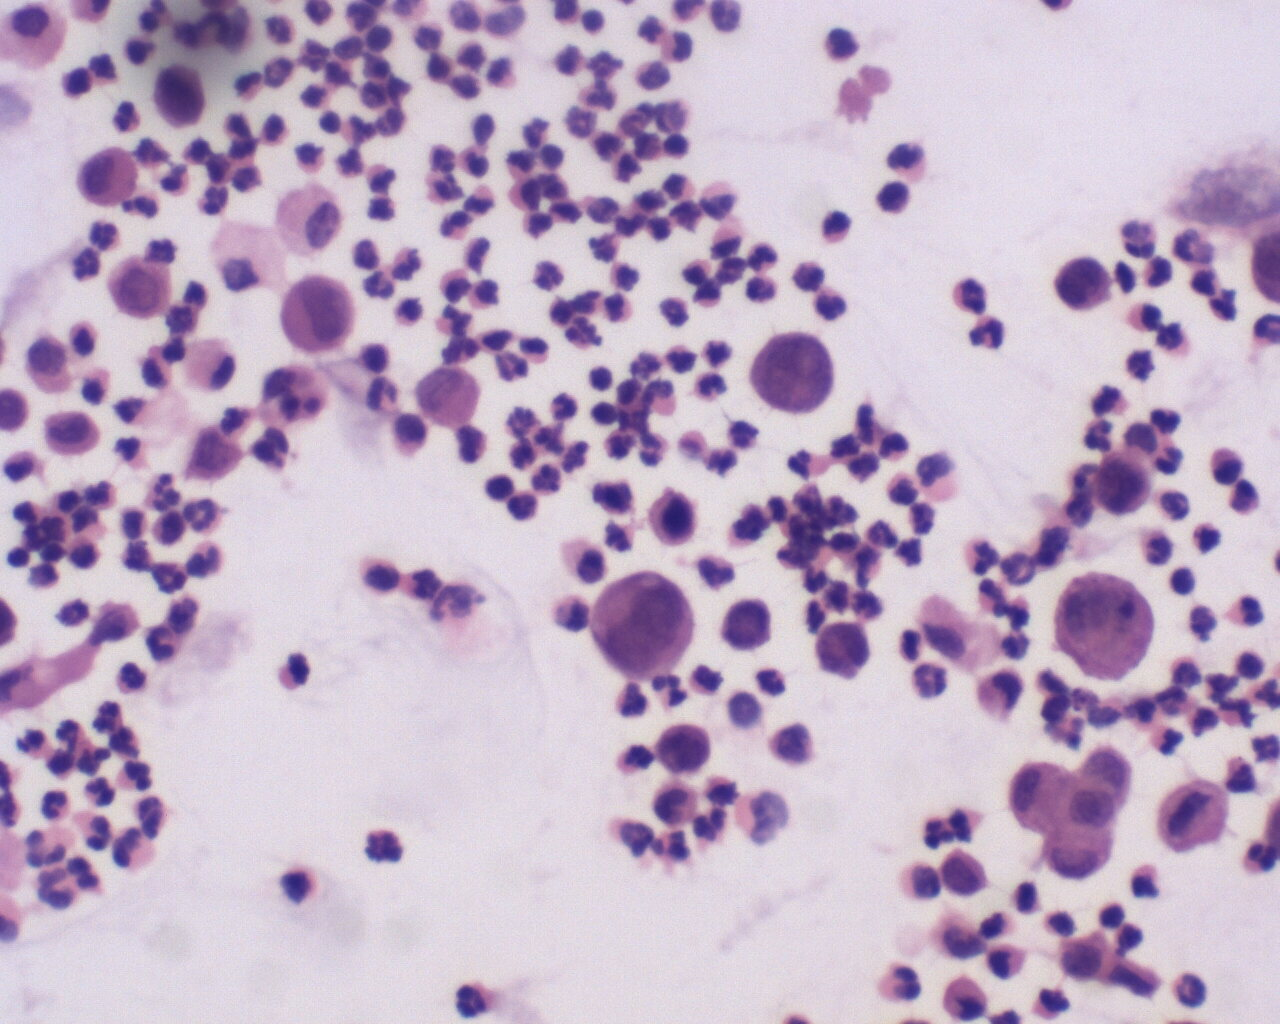ab: (1054, 568, 1156, 685), (588, 571, 694, 678), (272, 266, 365, 359), (745, 326, 839, 418), (1148, 772, 1223, 856), (103, 250, 181, 323), (1097, 445, 1158, 519), (1048, 250, 1115, 317), (647, 488, 709, 550), (40, 405, 111, 459), (719, 597, 779, 658), (656, 719, 715, 783), (941, 848, 993, 900)
histo: (182, 335, 236, 395)
lymph: (1166, 563, 1201, 598)
meso: (274, 176, 348, 258), (2, 1, 67, 74), (76, 145, 143, 209)
neutro: (448, 972, 499, 1024), (961, 312, 1009, 356), (180, 494, 227, 536), (113, 758, 156, 798), (196, 180, 236, 222), (143, 623, 181, 666), (152, 558, 191, 596), (527, 256, 566, 292), (746, 242, 783, 277)
